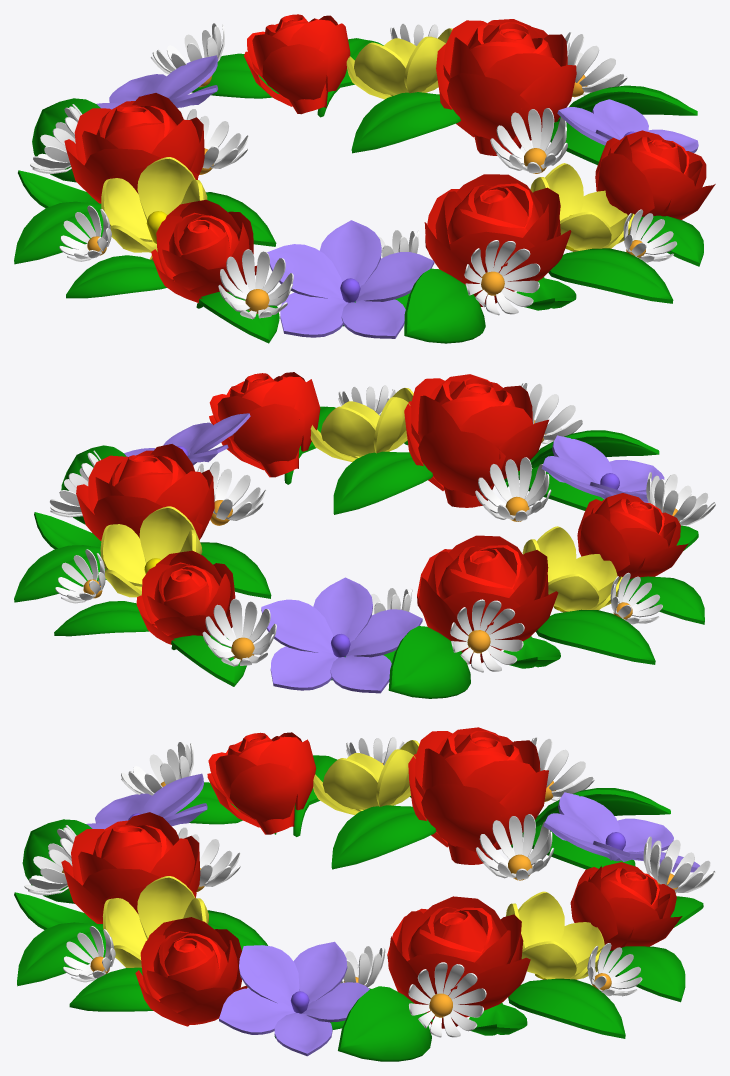
Rendered from Cake_ThemeFLowers_G.FBX.
3 views of the same model, one above another, from view 1: azimuth 30°, elevation 25°; view 2: azimuth 150°, elevation 25°; view 3: azimuth 270°, elevation 25° (orthographic). The views are drawn at different scales.
Visible parts, largest first — view 1: Cake_ThemeFLowers_G; view 2: Cake_ThemeFLowers_G; view 3: Cake_ThemeFLowers_G.
Part boxes in pixels (x1=…): Cake_ThemeFLowers_G: x1=14, y1=14, x2=715, y2=343; Cake_ThemeFLowers_G: x1=14, y1=372, x2=715, y2=698; Cake_ThemeFLowers_G: x1=14, y1=727, x2=715, y2=1061.
Bounding box in the file's own units: 123404 × 21663 × 117302.
